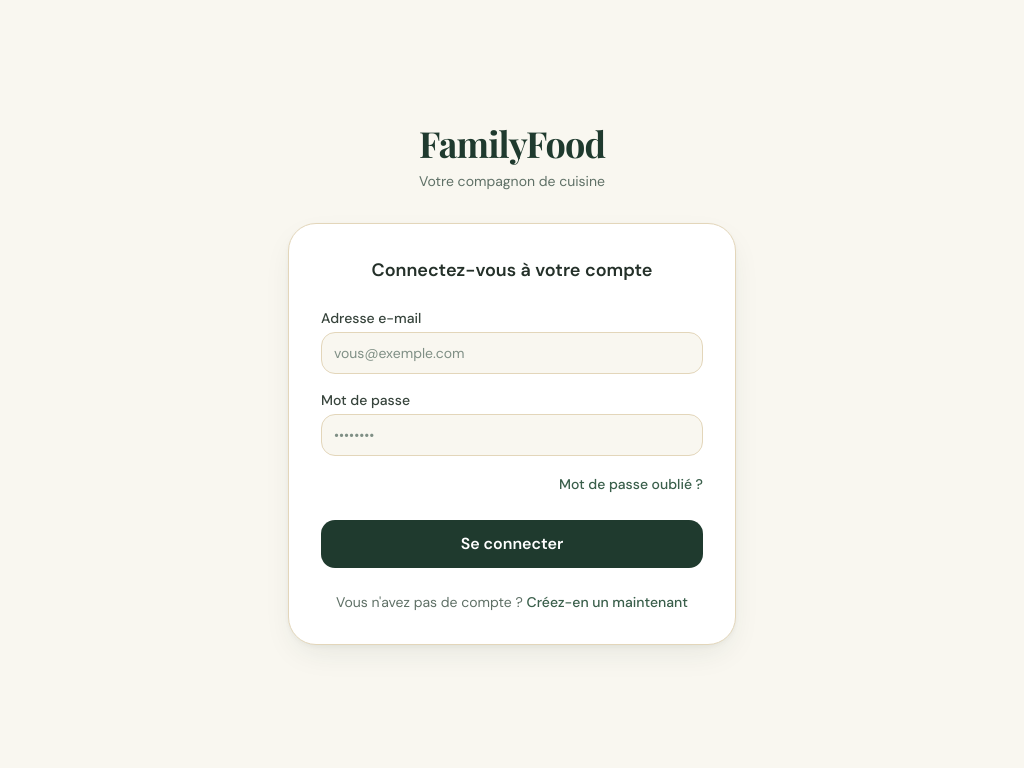
Test: Auth System › Login Page › navigates to / on successful login
Expected: the heading "Connectez-vous à votre compte" is shown, [372,258,652,282]
In the field labelled "Adresse e-mail": point(512, 353) [321,332,703,374], type "test@example.com"
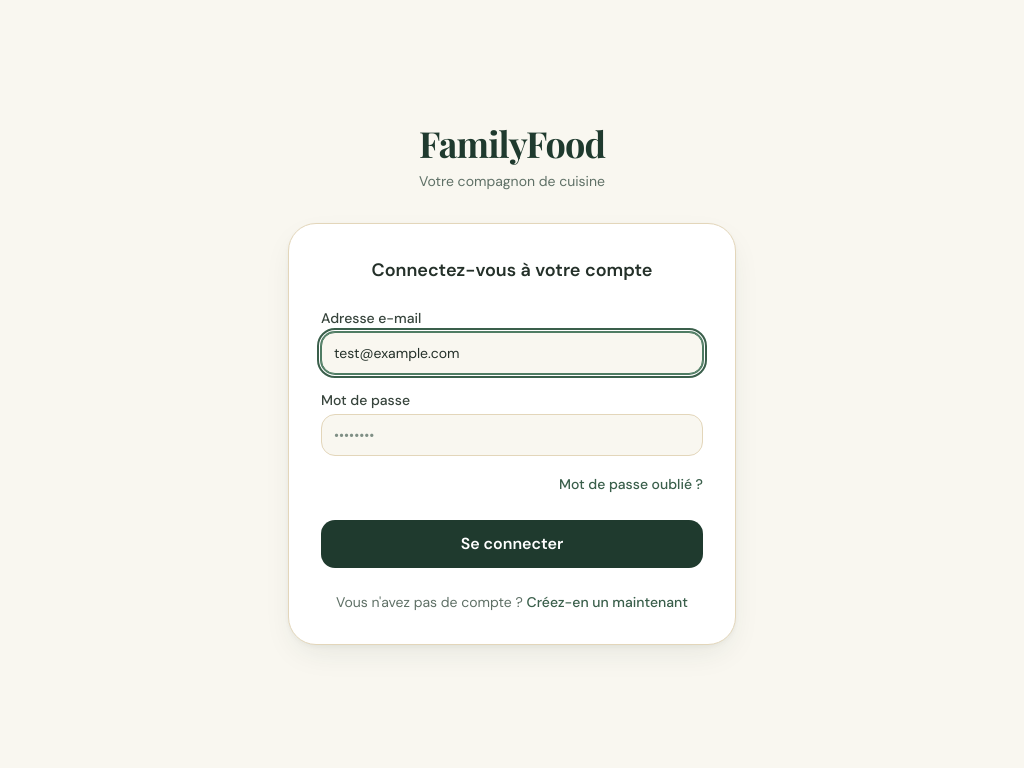
In the password field labelled "Mot de passe": point(512, 435) [321,414,703,456], type "Password1"
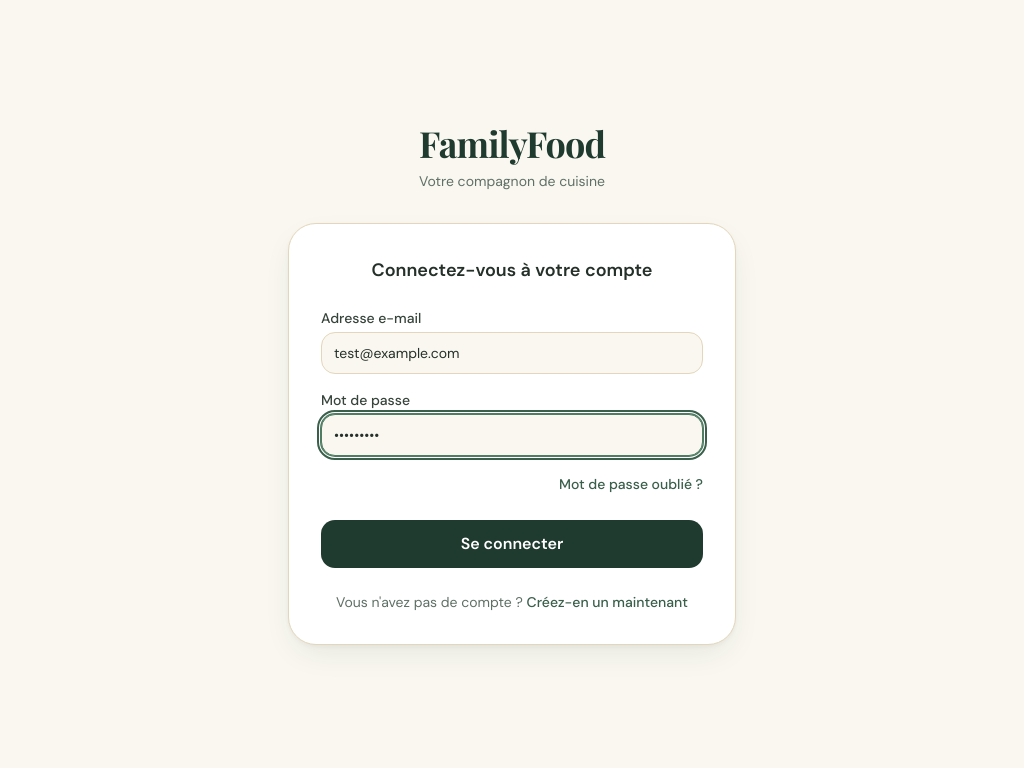
Click the button "Se connecter": point(512, 544) [321,520,703,568]
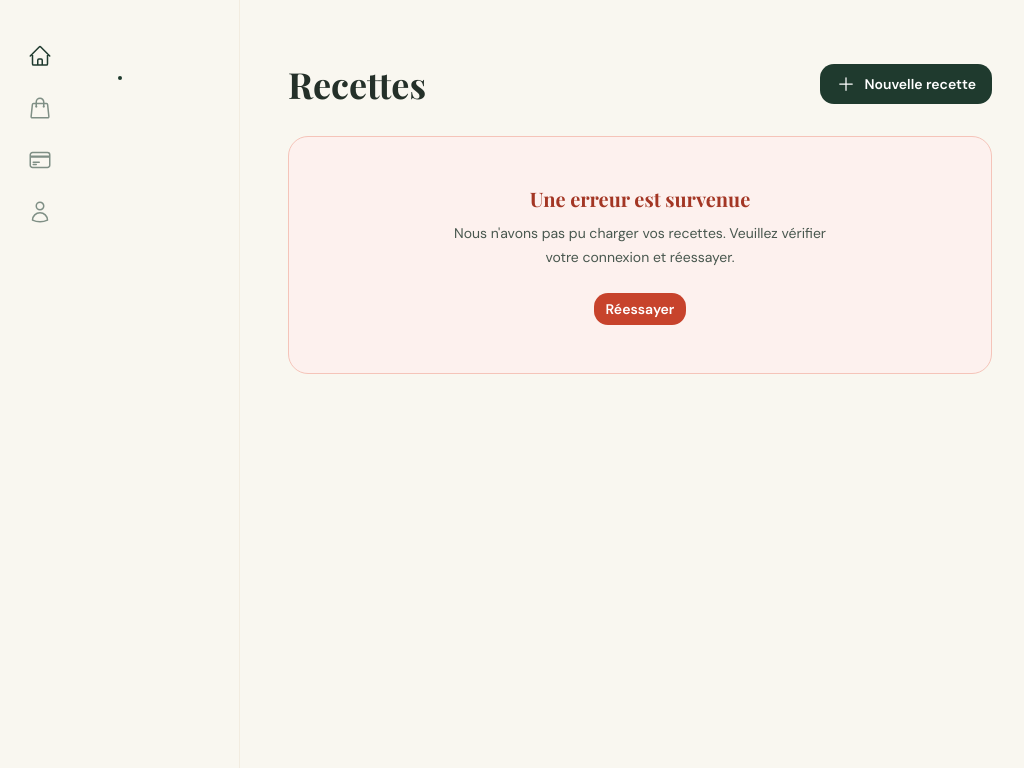
Expected: the heading "Recettes" is shown, [288,64,426,104]
